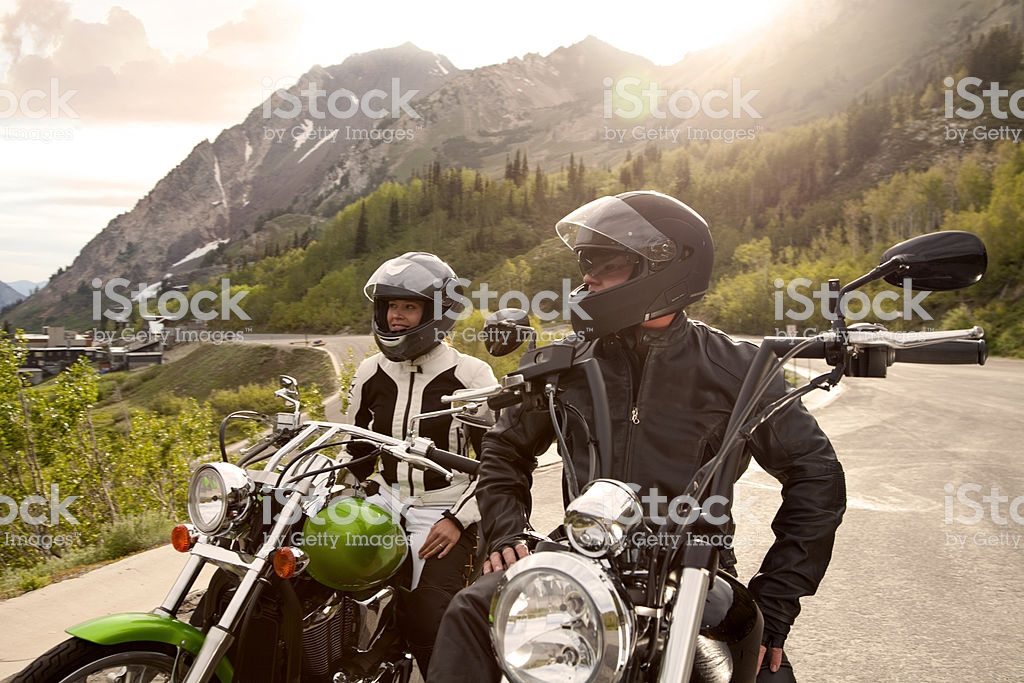helmet: (561, 187, 732, 320), (361, 246, 468, 371)
